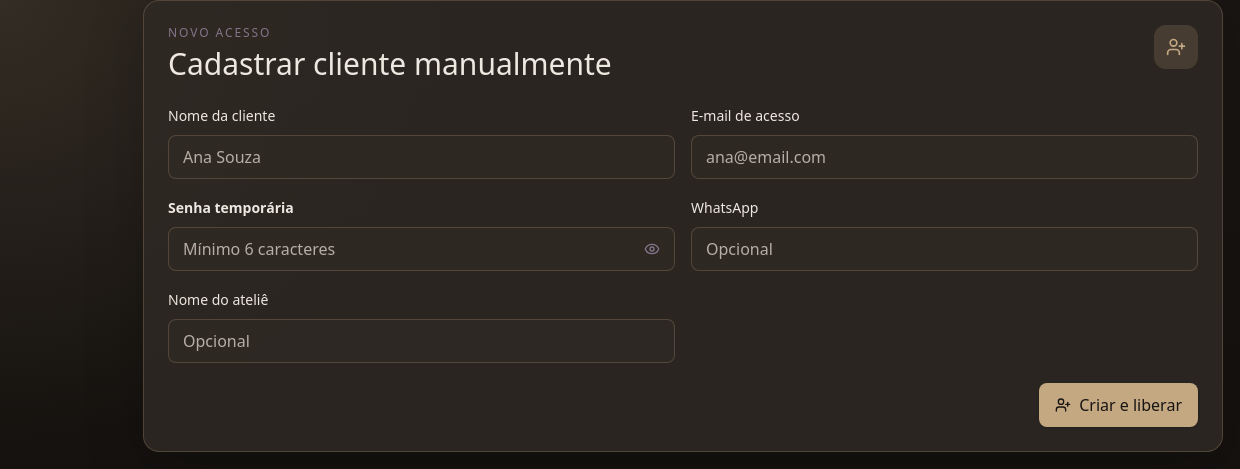
CreateUserForm › keeps the temporary password hidden until the admin chooses to show it
The width and height of the screenshot is (1240, 469).
Expected: the text "Nome do ateliê" is shown, left=168, top=290, right=268, bottom=309
Expected: the password field with placeholder "Mínimo 6 caracteres" is shown, left=169, top=228, right=630, bottom=270
Step 1. Click the button named "Mostrar senha" → (652, 249), box left=630, top=228, right=674, bottom=270
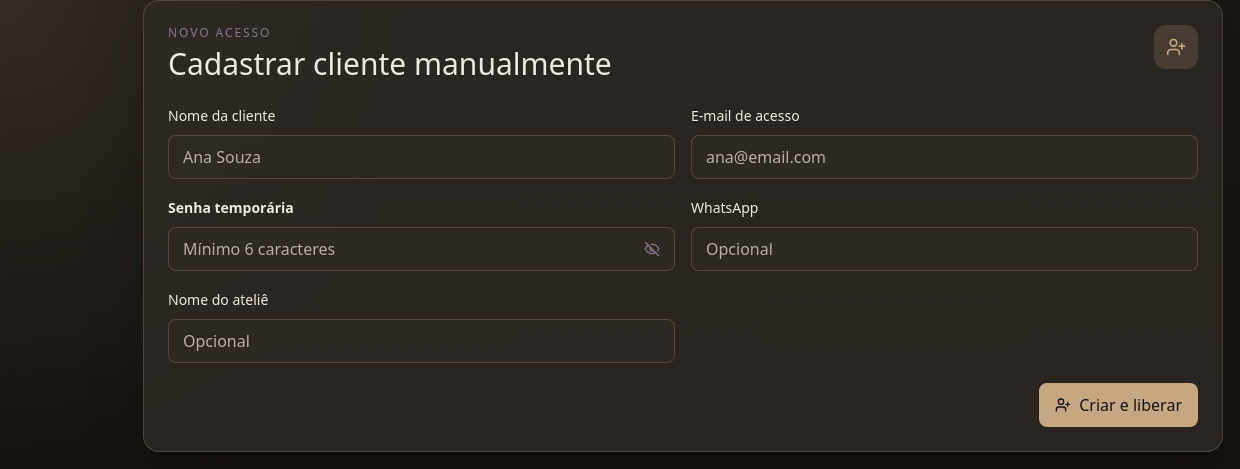
Expected: the button named "Ocultar senha" is shown, left=630, top=228, right=674, bottom=270
